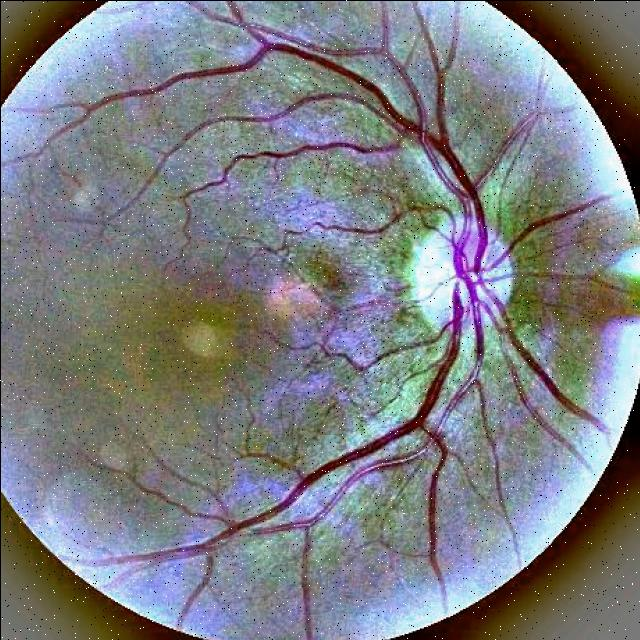Macula: (182, 319, 216, 355)
Nerves: (47, 0, 606, 580)
Optic Disk: (412, 214, 512, 324)
